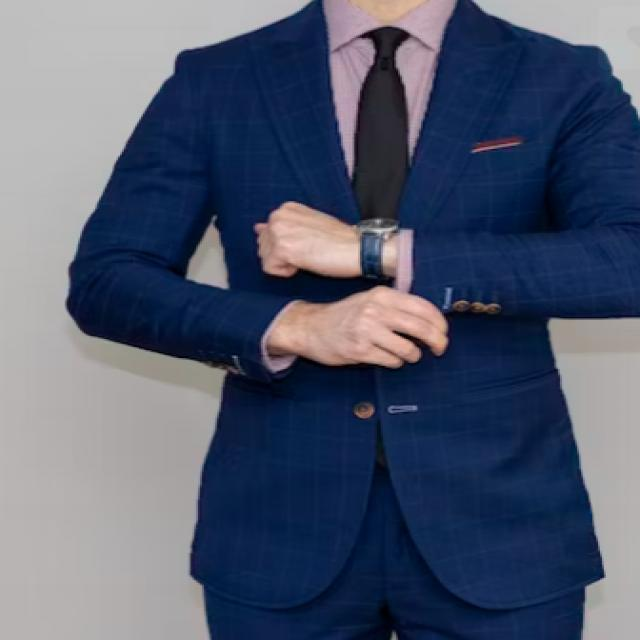Watch: (352, 210, 396, 280)
